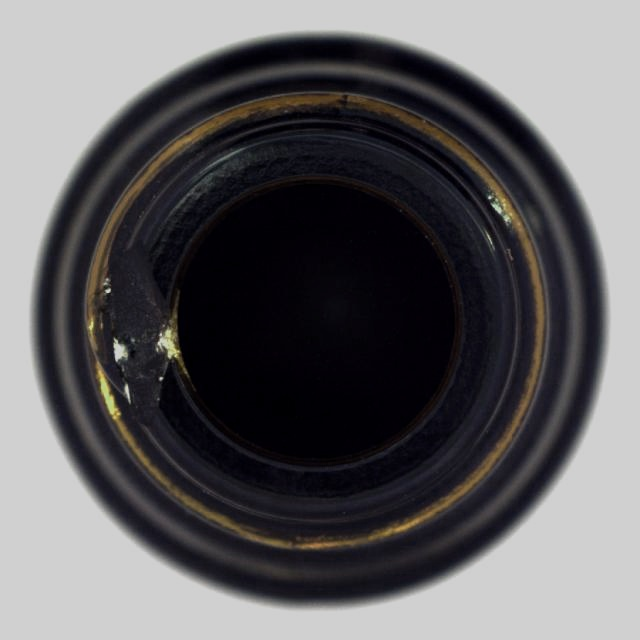bad-broken_small: (28, 32, 611, 612)
